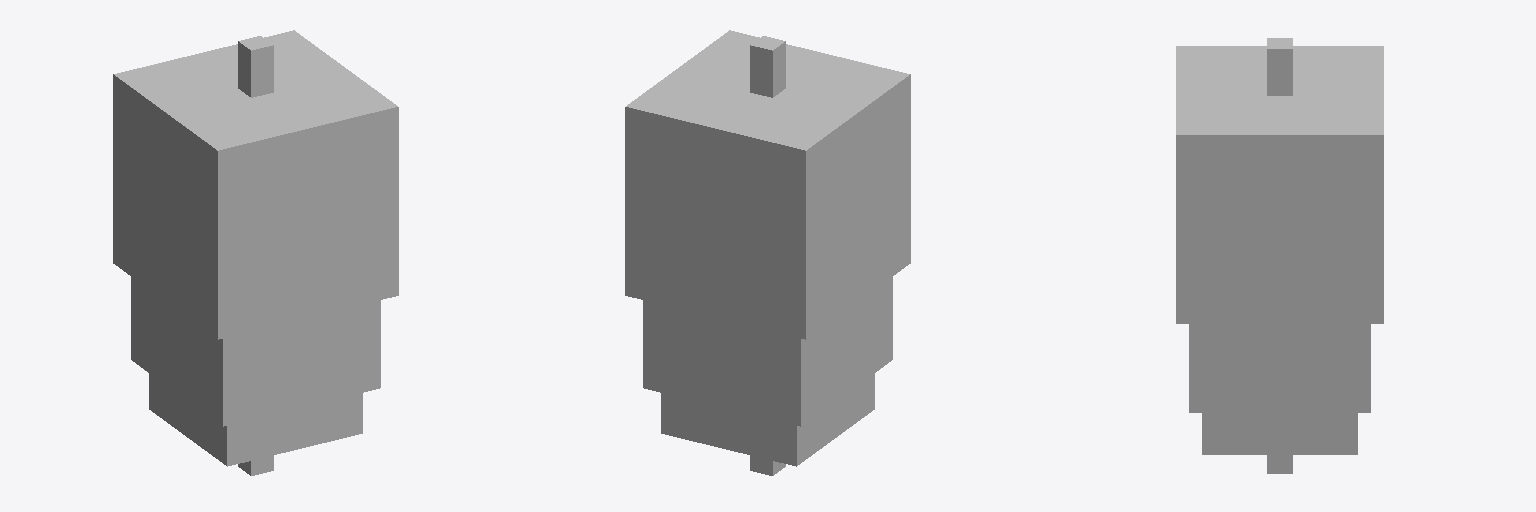
File: doner_spiess_fleisch.obj
3 renders of one model, left to right at view 1: azimuth 30°, elevation 25°; view 2: azimuth 150°, elevation 25°; view 3: azimuth 270°, elevation 25°, orthographic.
Parts seen in each view (by area): view 1: cube; view 2: cube; view 3: cube.
Part boxes in pixels (x1,y1,x2,y2): cube: (113, 30, 398, 475); cube: (625, 30, 910, 475); cube: (1176, 38, 1383, 473).
Size of the model in its own units: 0.5 by 1.12 by 0.5.